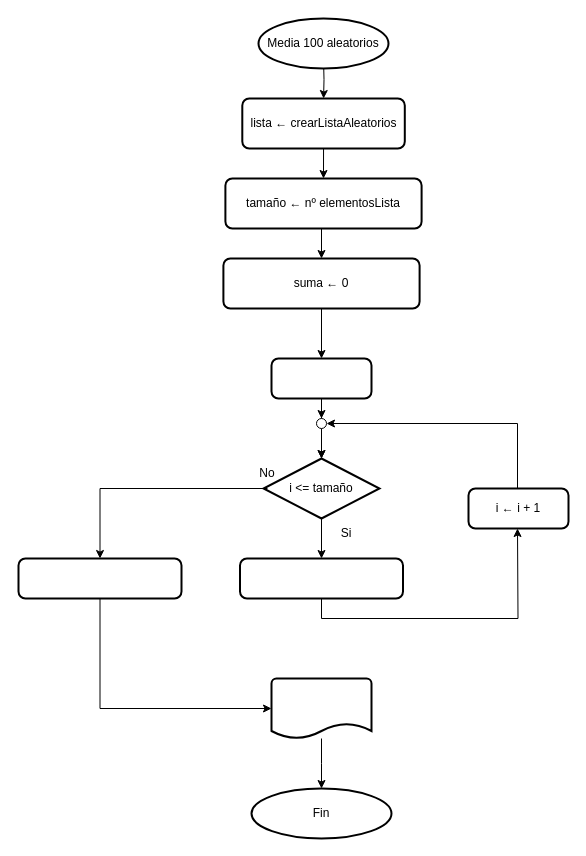
The diagram is 586 pixels wide and 856 high, and some of its shapes have lost their labels. Here are the shapes that lost their labels. From the top down, the centre of each, then its label:
At point 321,378: "i ← 1".
At point 99,578: "media ← suma / tamaño".
At point 321,578: "suma ← suma + elemento(i)".
At point 321,708: "media".
